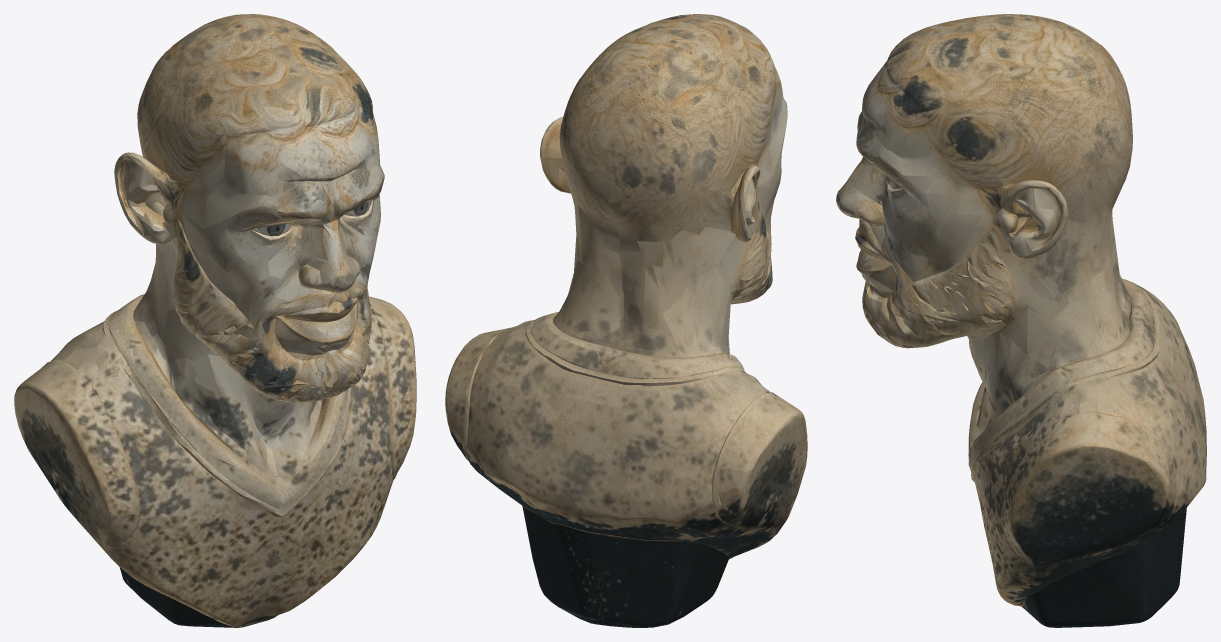
Rendered from lebron.glb.
The picture shows the model from 3 angles, left to right: view 1: azimuth 30°, elevation 25°; view 2: azimuth 150°, elevation 25°; view 3: azimuth 270°, elevation 25°; orthographic projection. The views are drawn at different scales.
Parts seen in each view (by area): view 1: Mesh_0.002; view 2: Mesh_0.002; view 3: Mesh_0.002.
Boxes of the visible parts, x1=… form: Mesh_0.002: x1=14, y1=14, x2=416, y2=627; Mesh_0.002: x1=445, y1=14, x2=807, y2=627; Mesh_0.002: x1=836, y1=14, x2=1206, y2=627.
Bounding box in the file's own units: 1.16 × 1.9 × 1.09.
1 material, 1 textured.
